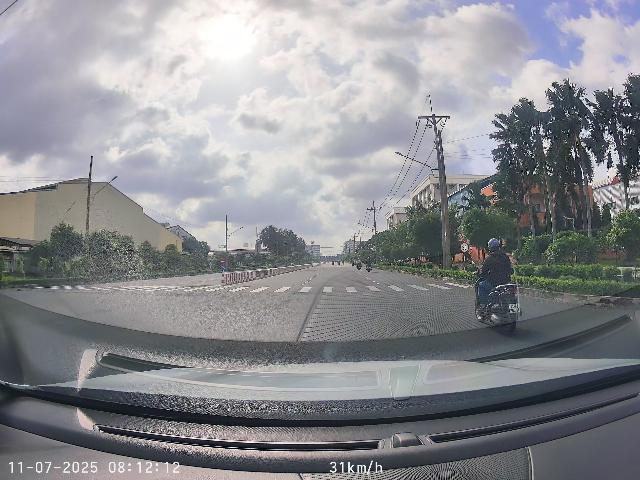127-toc-do-toi-da-30: (460, 242, 469, 253)
